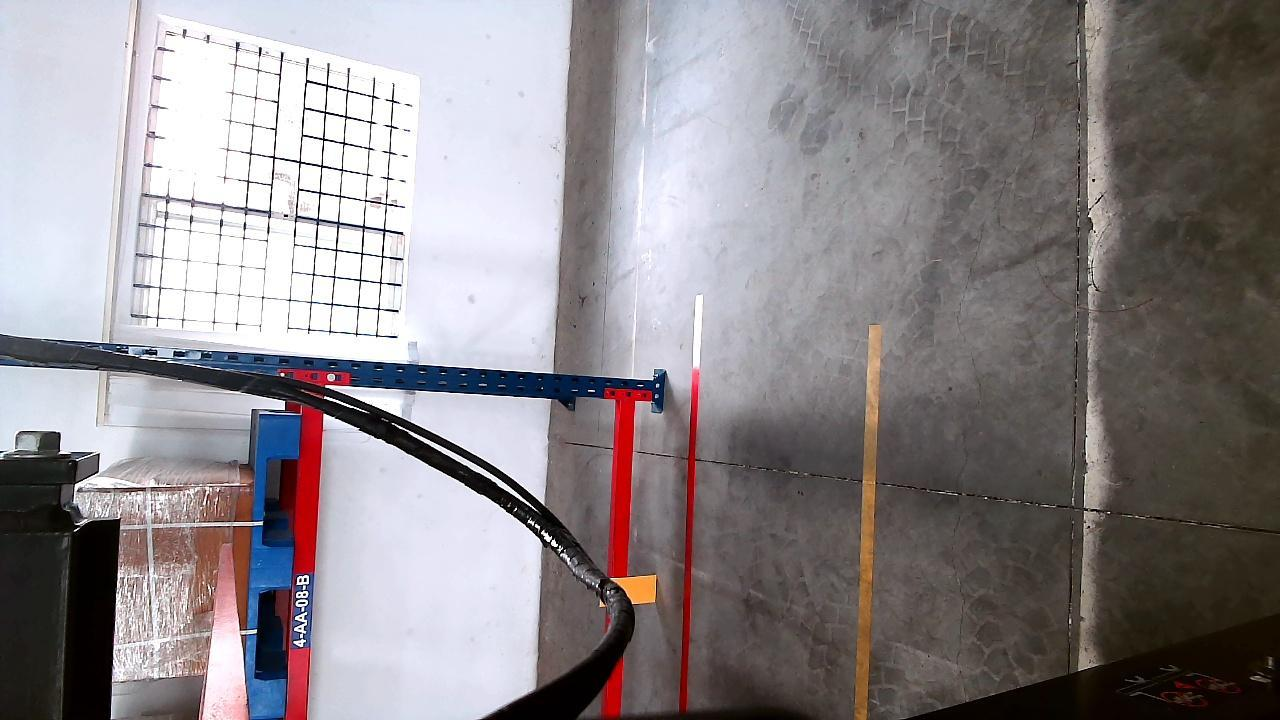red_line: (677, 295, 705, 712)
yellow_line: (853, 324, 880, 720)
